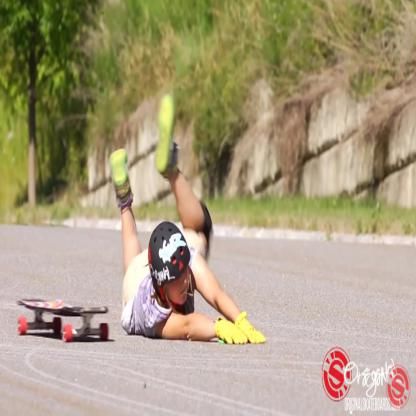Fall_Down: (107, 93, 270, 351)
